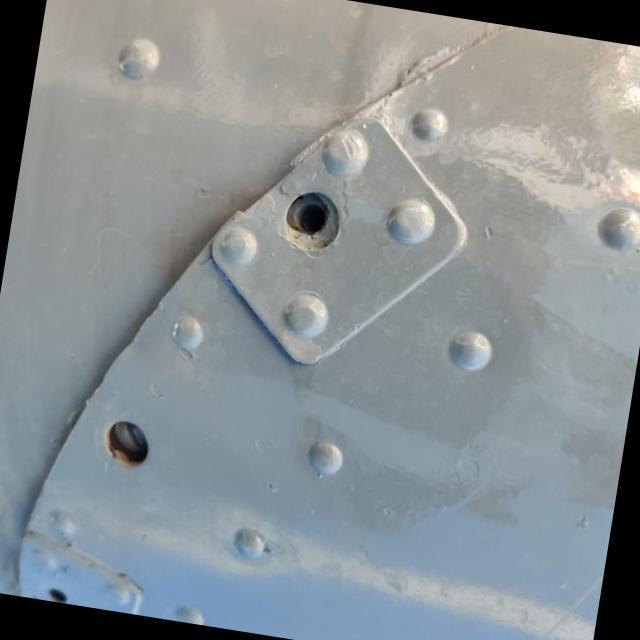Fastener Damage: (257, 166, 377, 286), (75, 387, 182, 493)
